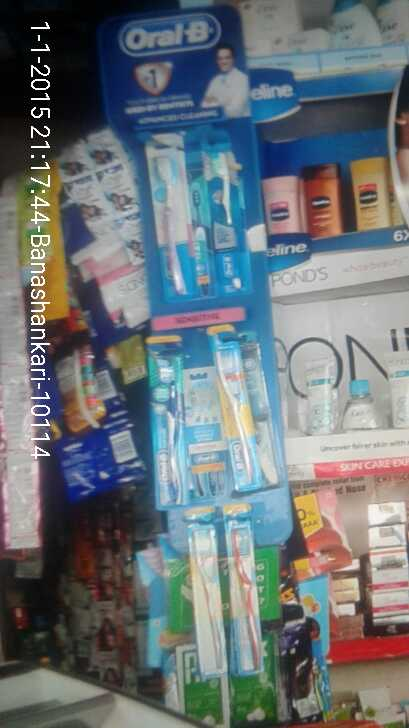oralb: (211, 327, 259, 494), (184, 519, 229, 679), (227, 523, 273, 673), (150, 338, 188, 514), (208, 141, 251, 292), (152, 138, 190, 299)
